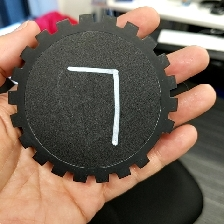gear: (6, 12, 180, 185)
missing: (134, 116, 176, 170)
